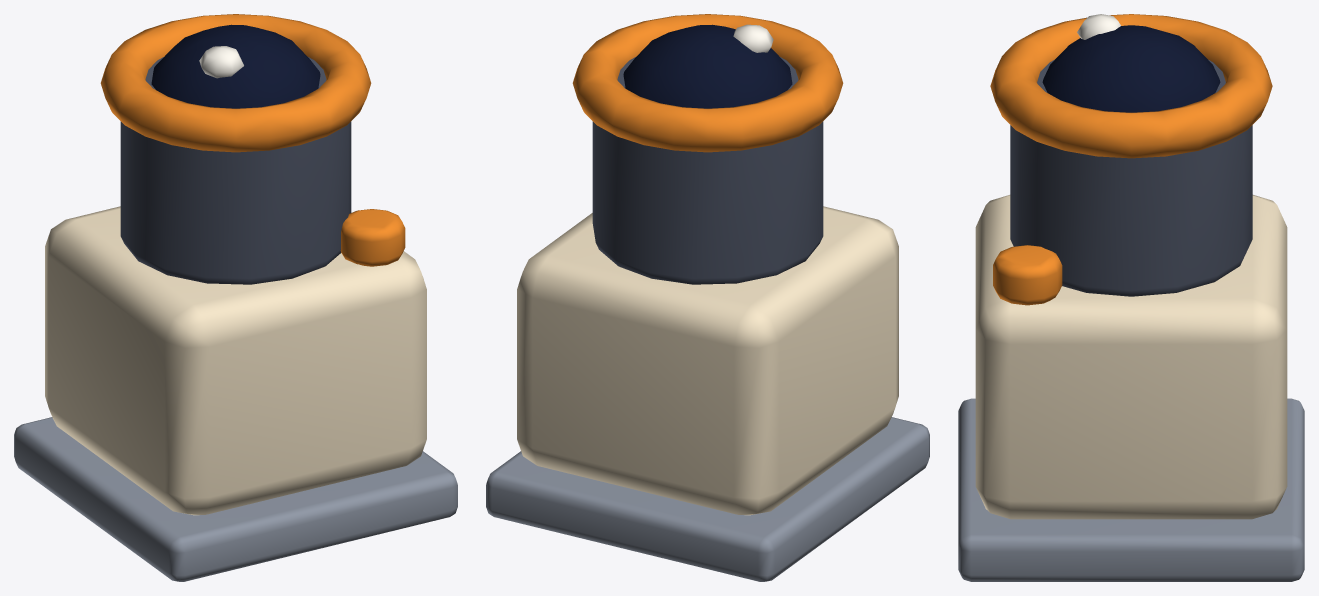
Rendered from Part_Camera.glb.
The picture shows the model from 3 angles, left to right: view 1: azimuth 30°, elevation 25°; view 2: azimuth 150°, elevation 25°; view 3: azimuth 270°, elevation 25°; orthographic projection. The views are drawn at different scales.
Parts seen in each view (by area): view 1: Part_Camera.Body, Part_Camera.Barrel, Part_Camera.Plinth, Part_Camera.Rim, Part_Camera.Lens, Part_Camera.Shutter, Part_Camera.Glint; view 2: Part_Camera.Body, Part_Camera.Barrel, Part_Camera.Plinth, Part_Camera.Rim, Part_Camera.Lens, Part_Camera.Glint; view 3: Part_Camera.Body, Part_Camera.Barrel, Part_Camera.Plinth, Part_Camera.Rim, Part_Camera.Lens, Part_Camera.Shutter, Part_Camera.Glint.
Boxes of the visible parts, x1,y1,x2,y2 form: Part_Camera.Body: (45, 206, 426, 515); Part_Camera.Barrel: (120, 57, 351, 284); Part_Camera.Plinth: (14, 417, 457, 581); Part_Camera.Rim: (100, 14, 371, 152); Part_Camera.Lens: (151, 24, 320, 108); Part_Camera.Shutter: (340, 209, 405, 266); Part_Camera.Glint: (199, 46, 243, 78); Part_Camera.Body: (517, 206, 898, 515); Part_Camera.Barrel: (592, 57, 823, 284); Part_Camera.Plinth: (486, 417, 929, 581); Part_Camera.Rim: (572, 14, 843, 152); Part_Camera.Lens: (623, 24, 792, 108); Part_Camera.Glint: (733, 24, 773, 52); Part_Camera.Body: (975, 195, 1287, 519); Part_Camera.Barrel: (1010, 60, 1252, 296); Part_Camera.Plinth: (958, 398, 1304, 581); Part_Camera.Rim: (990, 14, 1272, 158); Part_Camera.Lens: (1042, 25, 1220, 112); Part_Camera.Shutter: (993, 245, 1062, 305); Part_Camera.Glint: (1077, 14, 1120, 39).
Size of the model in its own units: 0.4 by 0.615 by 0.4.
Materials: 1 (1 with a texture image).
